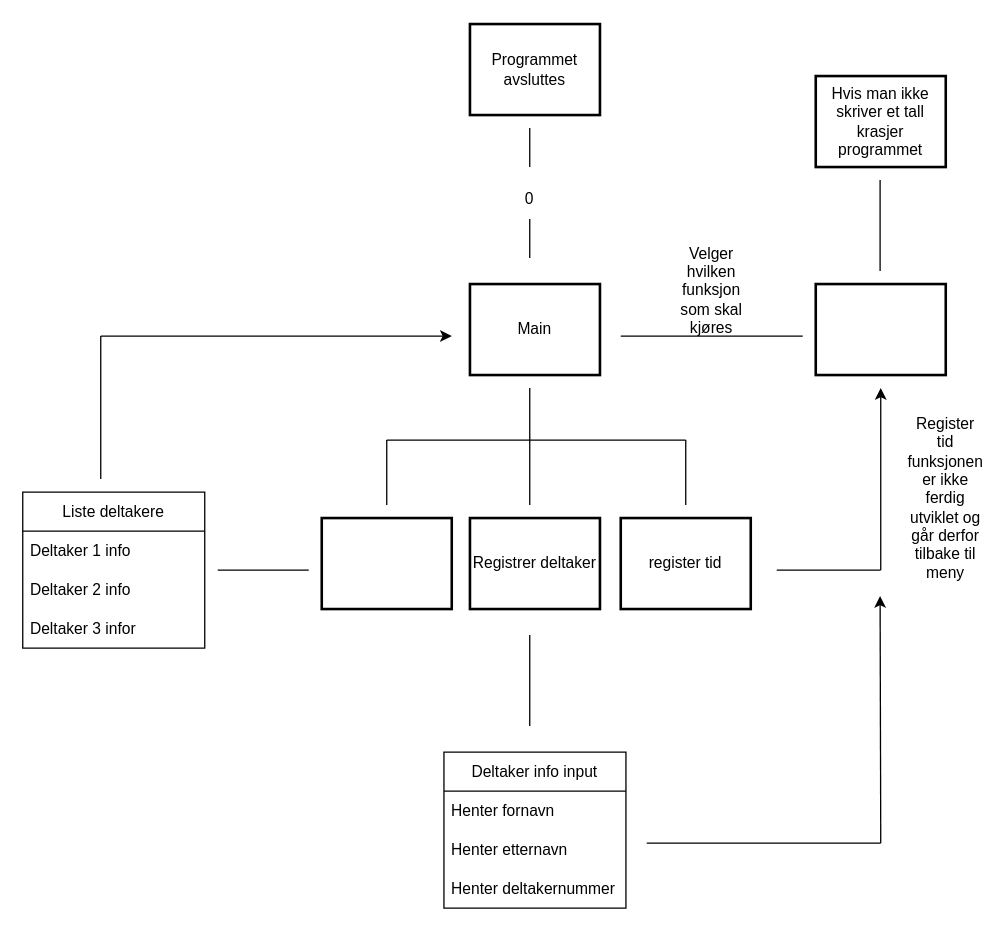
This 1007x931 diagram has some shape labels left out. Each missing label, with the centre of its shape:
List ut deltakere: (x=386, y=563)
Meny: (x=880, y=329)
